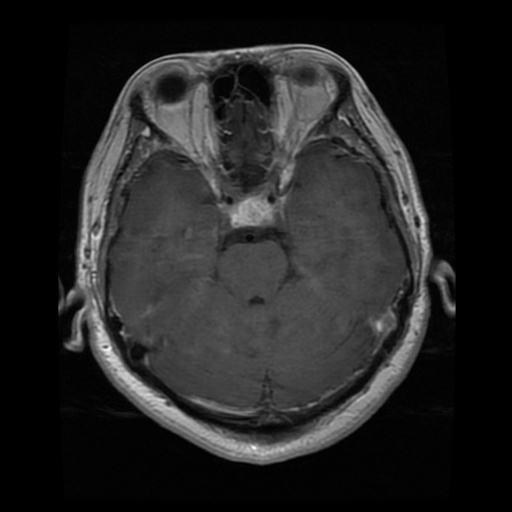pituitary: (229, 193, 274, 226)
